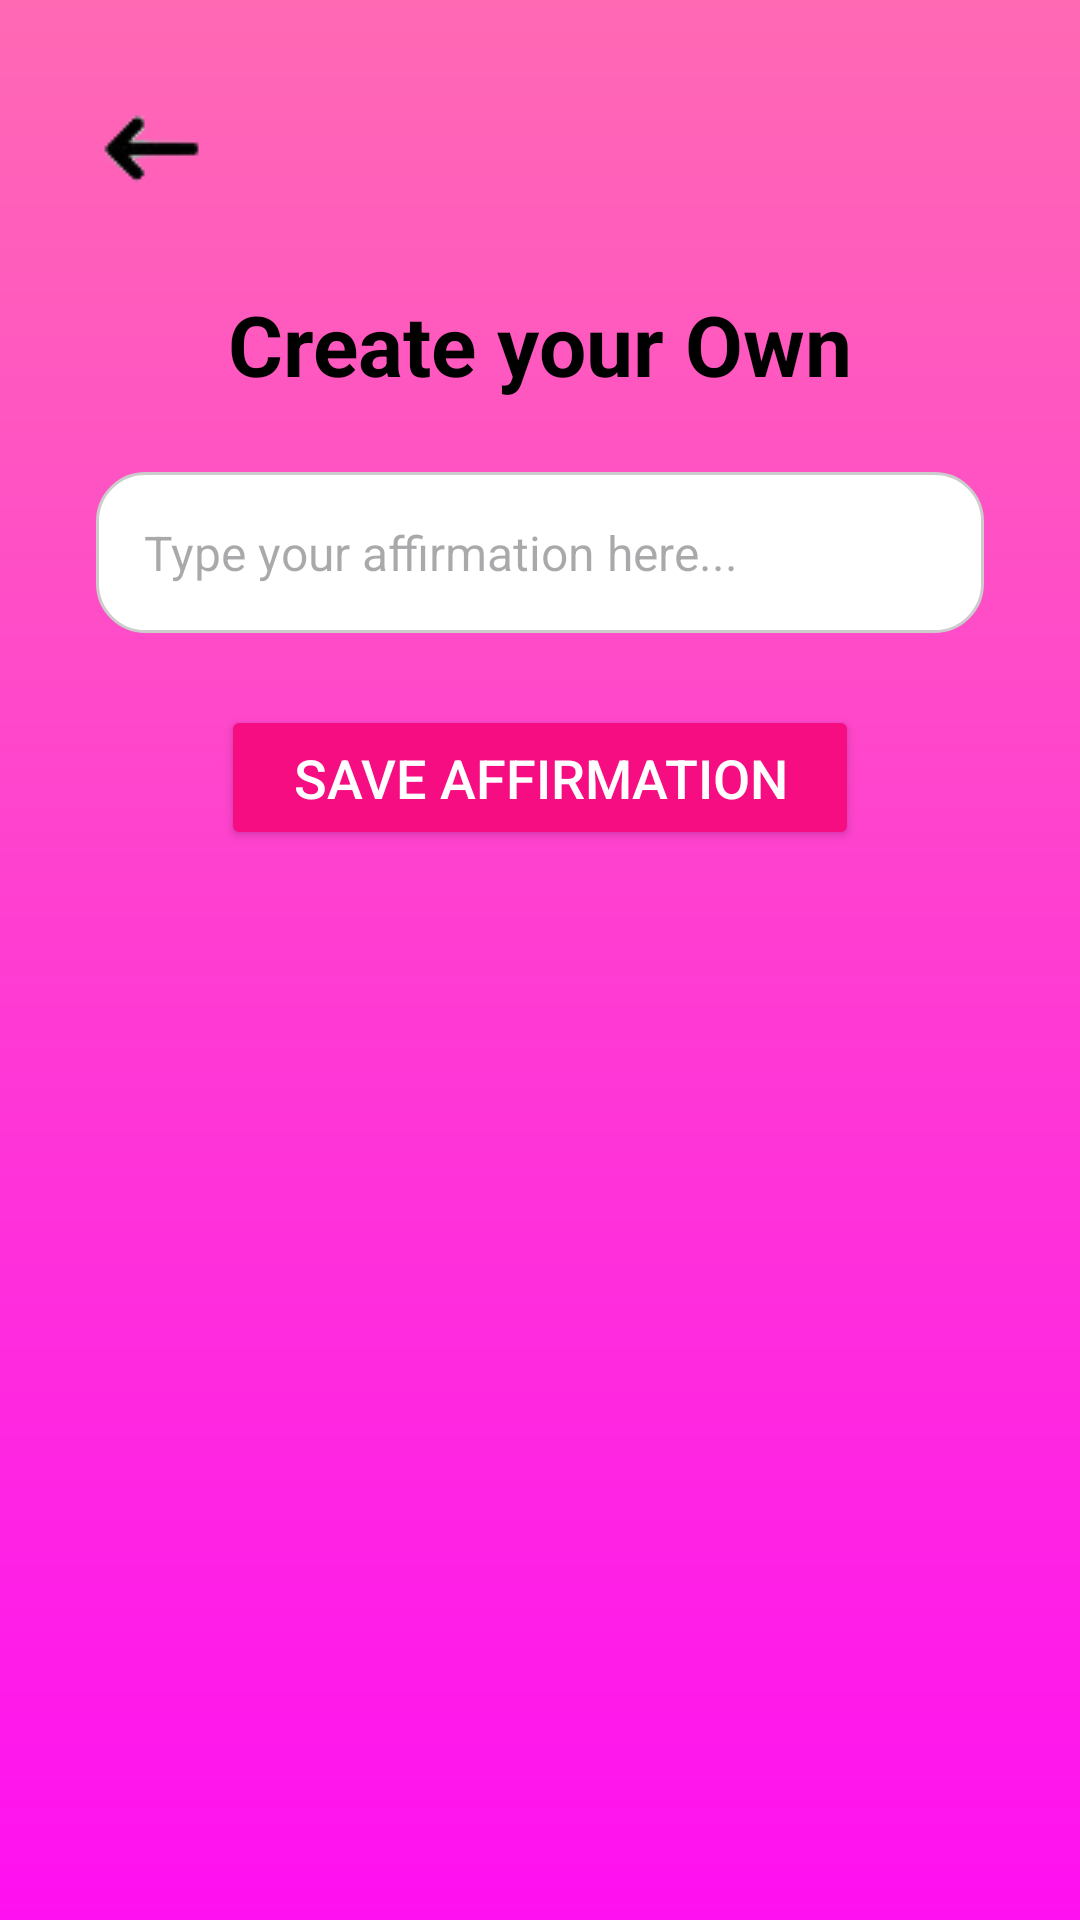

Screen size 1080 × 1920. Icon name, then its center in pixels as (x,y):
Return: (151,148)
